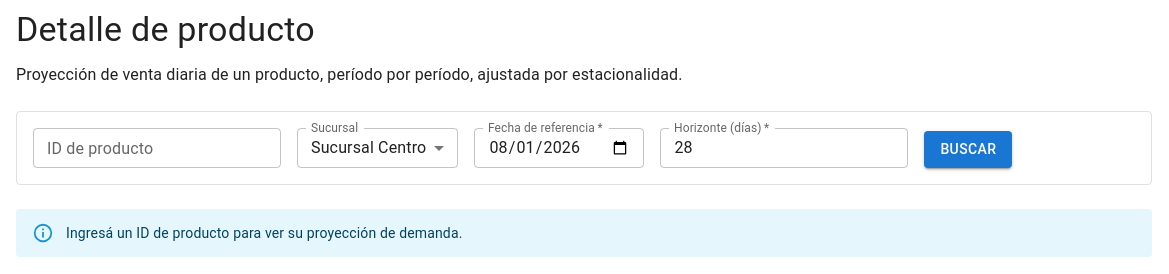
Test: ProductDetailPage › rechaza el formulario vacío con el mismo mensaje
Click the button "Buscar" at (968, 150), box [924,131,1012,168]
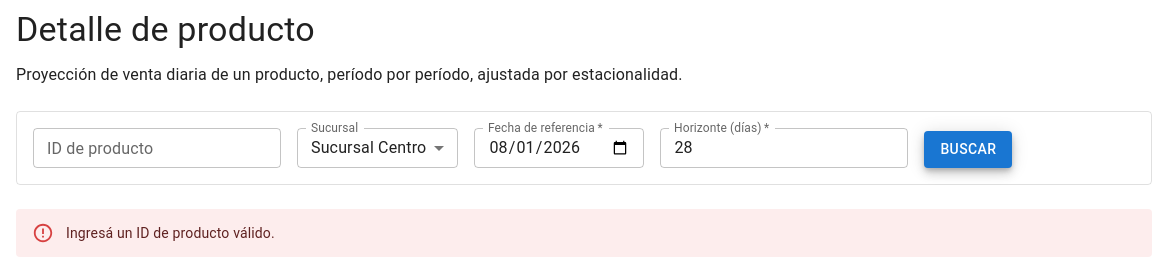
expect the text "Ingresá un ID de producto válido." is shown: met, box [66,225,275,241]
